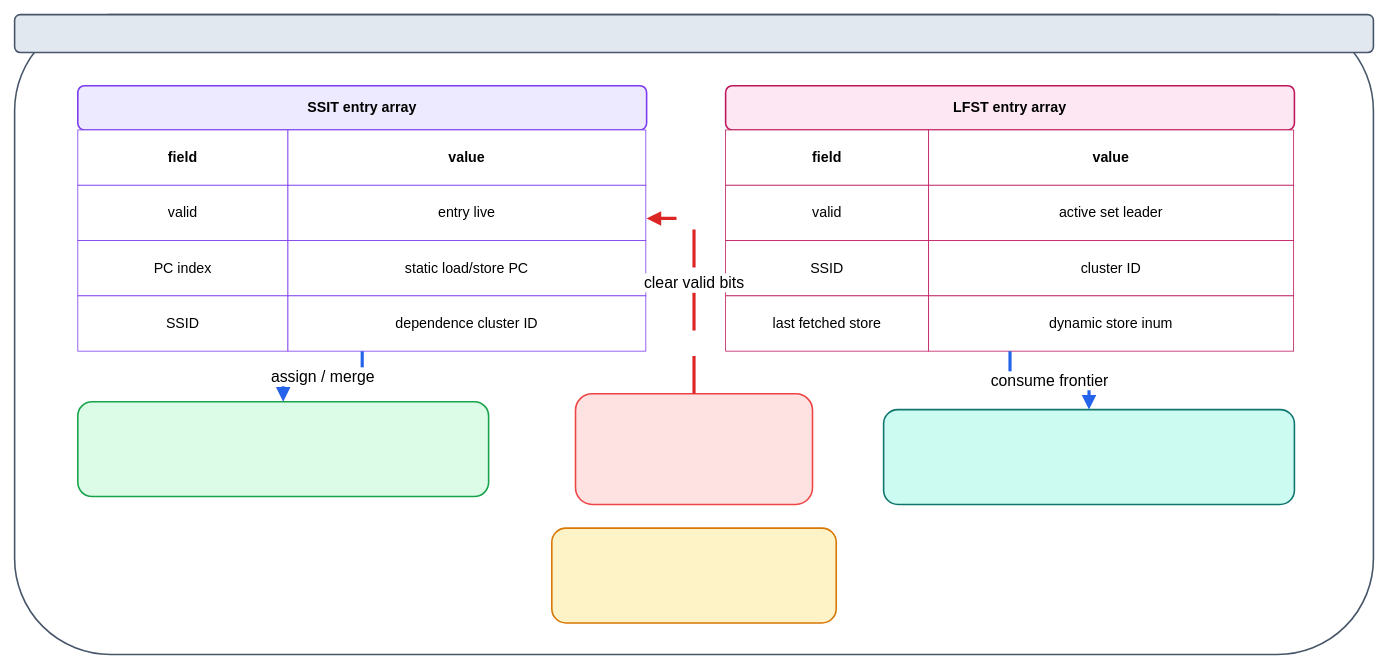
Some shapes in this 1387 by 668 pixel diagram are drawn without their labels. Here are the shapes that lost their labels. From the top down, the centre of each, then its label:
the point at 693,33: Core Tables
the point at 283,449: SSID allocator / merge winner new set ID or smaller surviving ID
the point at 693,449: periodic clear drop stale SSIT valid bits retrain after phase changes
the point at 1088,456: frontier meaning LFST stores one dynamic store ID not a list of all stores
the point at 694,575: aliasing note SSIT is indexed by PC no tag in the classic design
